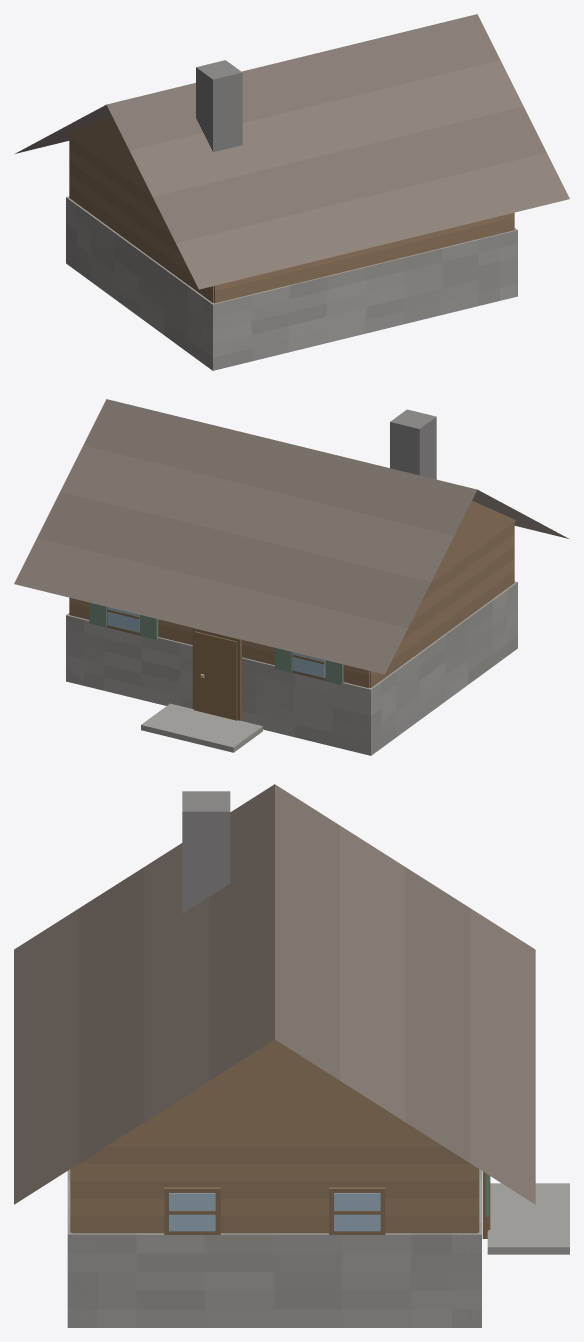
File: chalet.glb
3 renders of one model, top to bottom at view 1: azimuth 30°, elevation 25°; view 2: azimuth 150°, elevation 25°; view 3: azimuth 270°, elevation 25°, orthographic. The views are drawn at different scales.
Visible parts, largest first — view 1: chalet; view 2: chalet; view 3: chalet.
Boxes of the visible parts, left/top/right/bottom form: chalet: left=15, top=14, right=569, bottom=370; chalet: left=14, top=399, right=568, bottom=755; chalet: left=14, top=784, right=569, bottom=1327.
Bounding box in the file's own units: 8.8 × 5.7 × 8.1.
